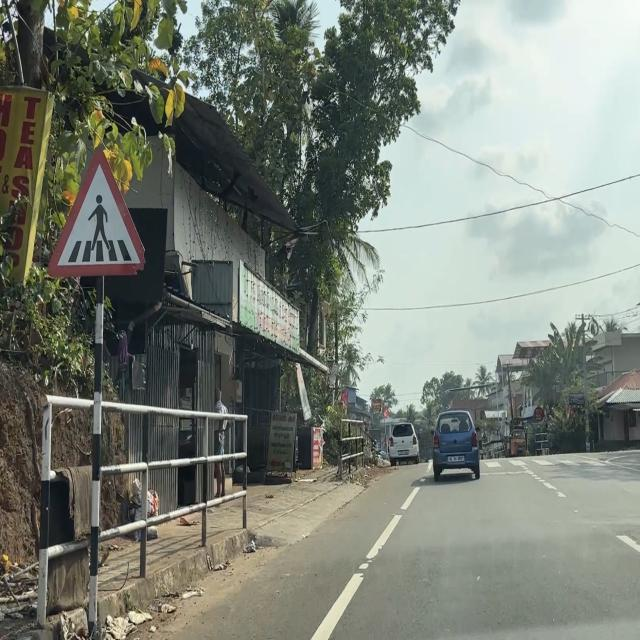PEDESTRIAN_CROSSING: (46, 149, 150, 280)
